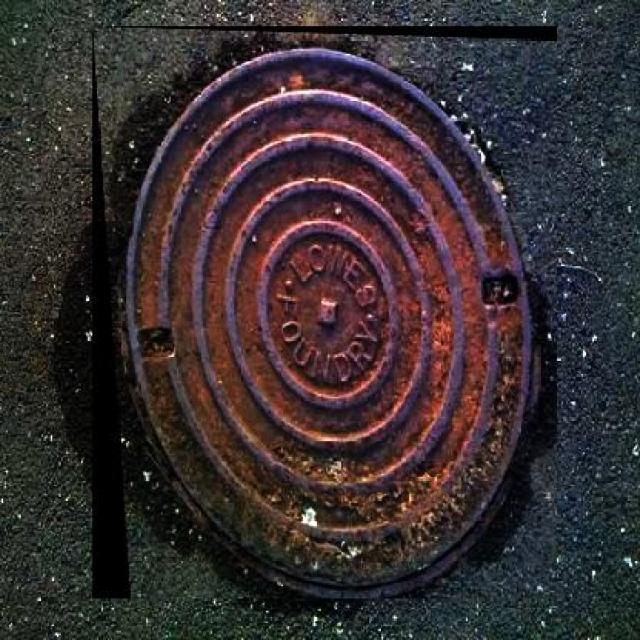Manhole: (96, 26, 561, 599)
